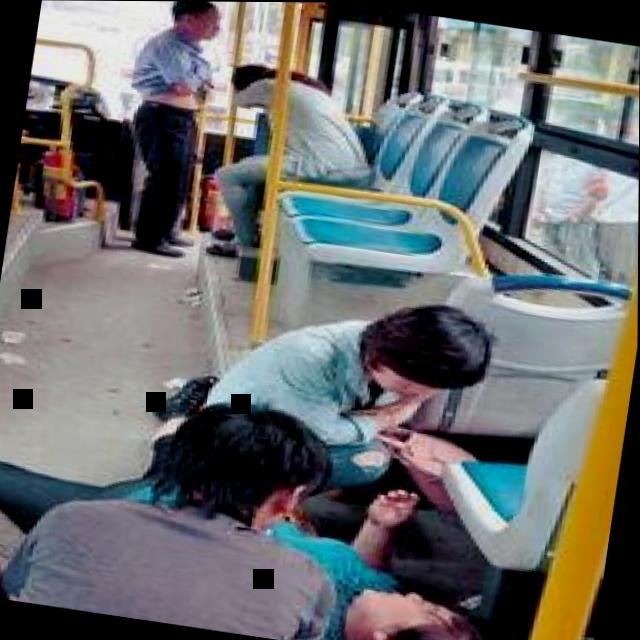Fall-Detected: (0, 373, 546, 640)
